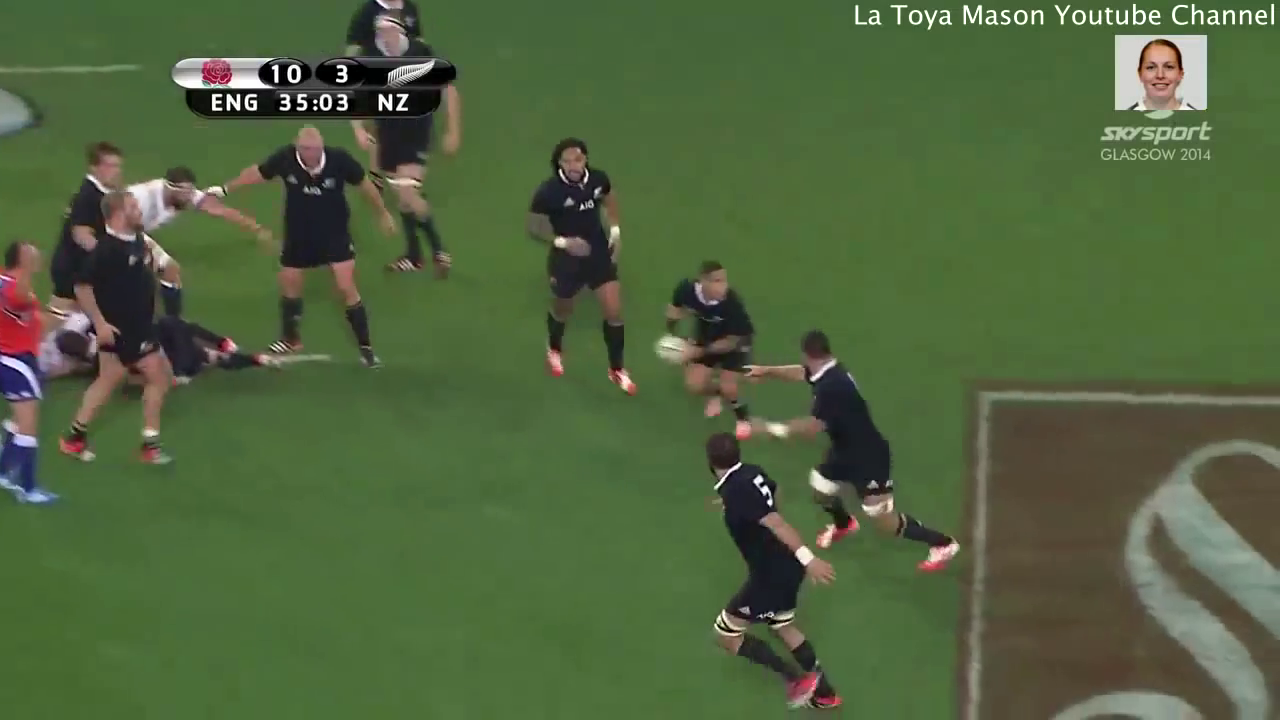player: (737, 318, 968, 580), (204, 119, 401, 385), (683, 425, 854, 720), (58, 182, 192, 491), (502, 125, 652, 400), (65, 165, 289, 332), (336, 1, 469, 273), (644, 251, 769, 444), (1, 226, 77, 513), (43, 132, 127, 312)
ruck: (1, 244, 275, 400)
